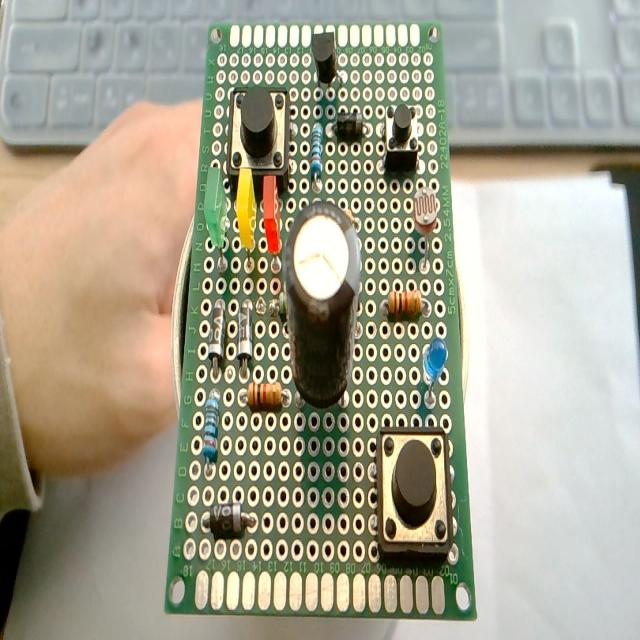Electrolytic capacitor: (283, 200, 362, 411)
cds: (412, 184, 440, 272)
diode: (207, 504, 256, 538), (208, 298, 225, 369), (237, 299, 254, 367), (336, 110, 363, 138)
led: (202, 169, 230, 262), (422, 338, 449, 407), (236, 166, 256, 253), (262, 172, 282, 257)
resistor: (202, 390, 221, 465), (388, 289, 423, 319), (248, 382, 283, 409), (310, 123, 323, 182), (278, 291, 288, 321)
switch: (375, 425, 453, 560), (226, 86, 290, 193), (384, 103, 418, 173)
transistor: (311, 31, 337, 84)
